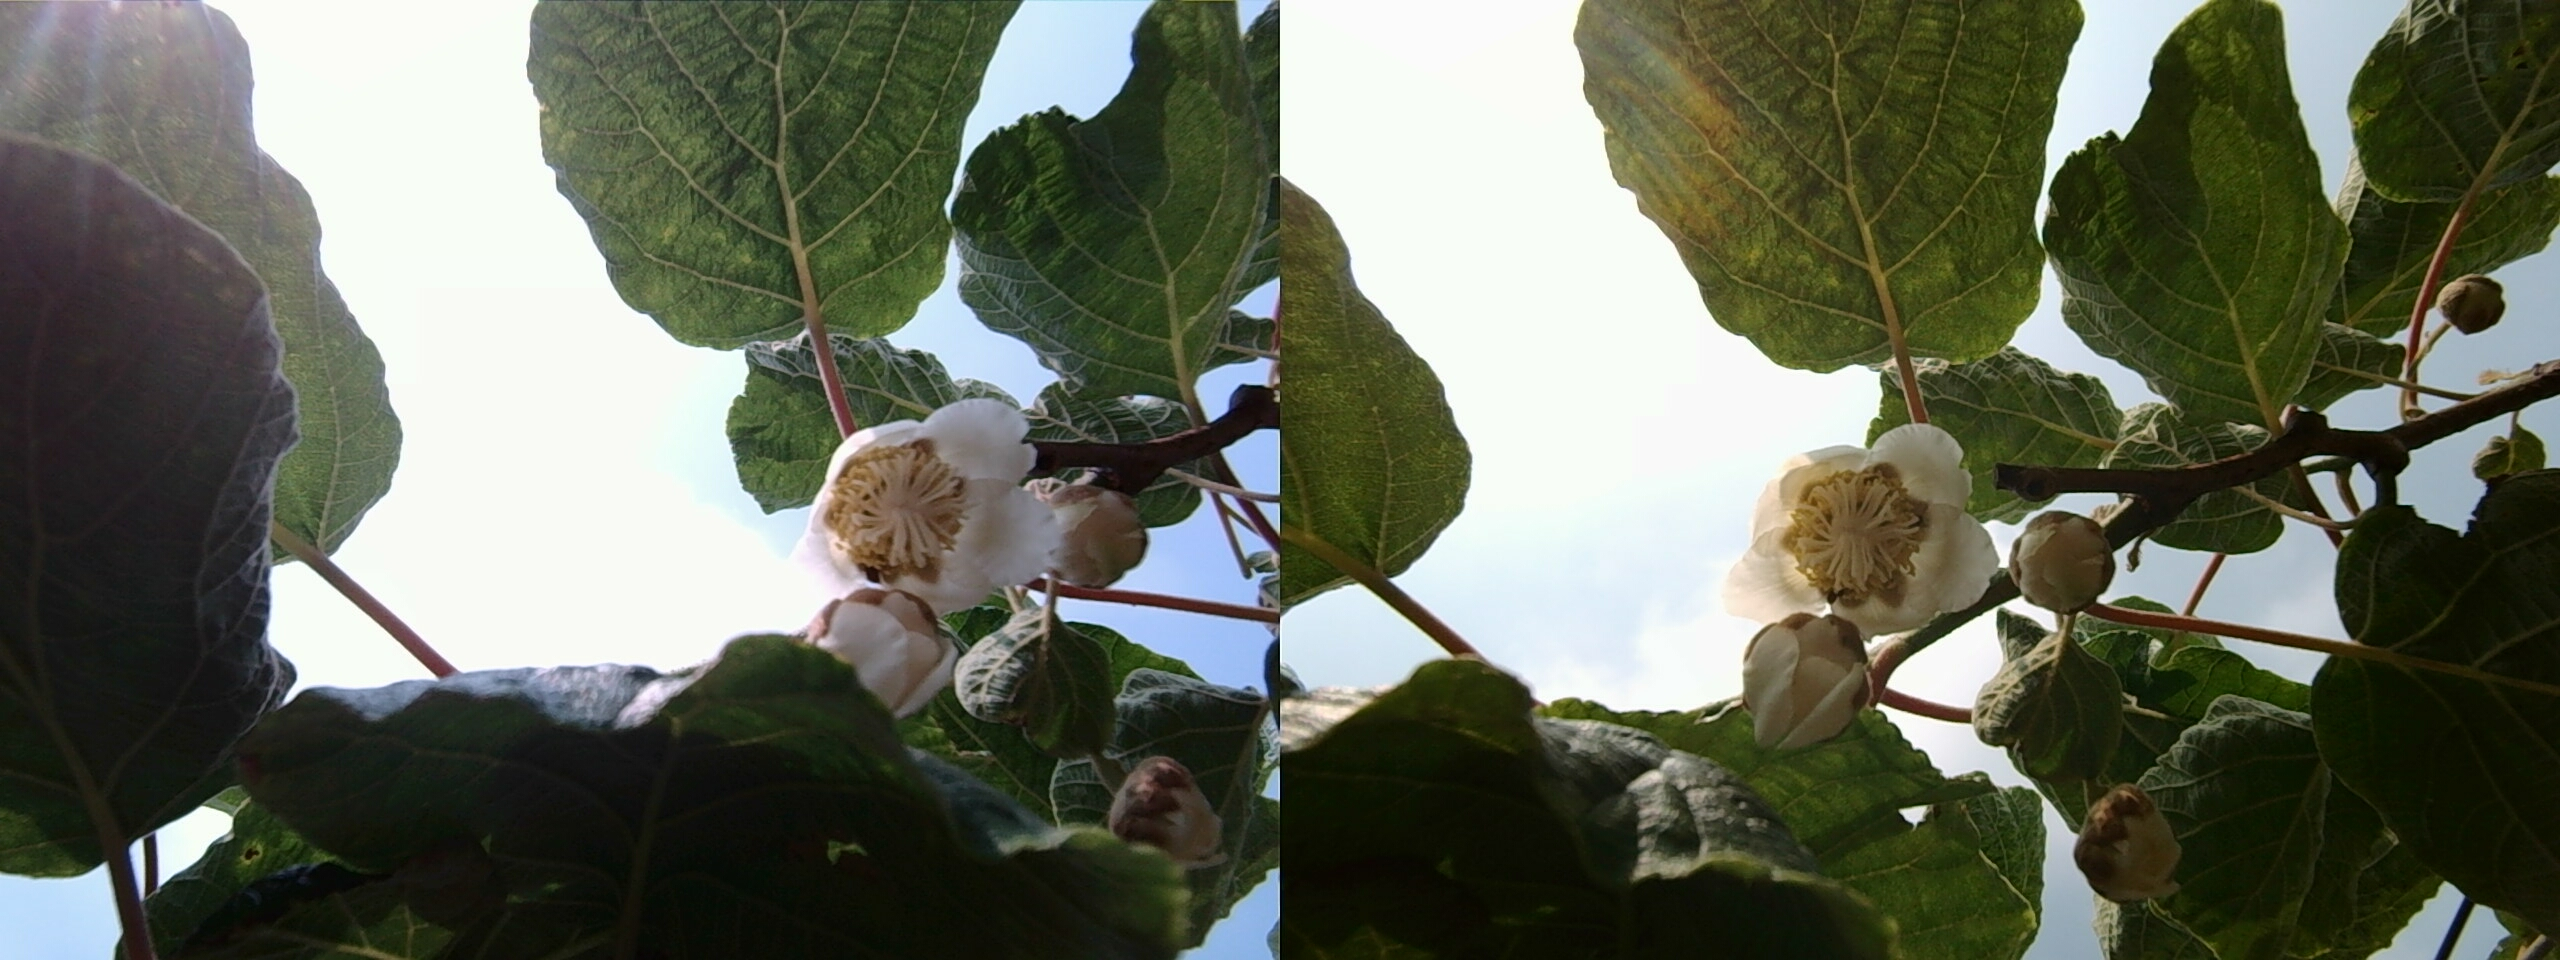flower: (795, 392, 1058, 602), (1727, 420, 1984, 635)
